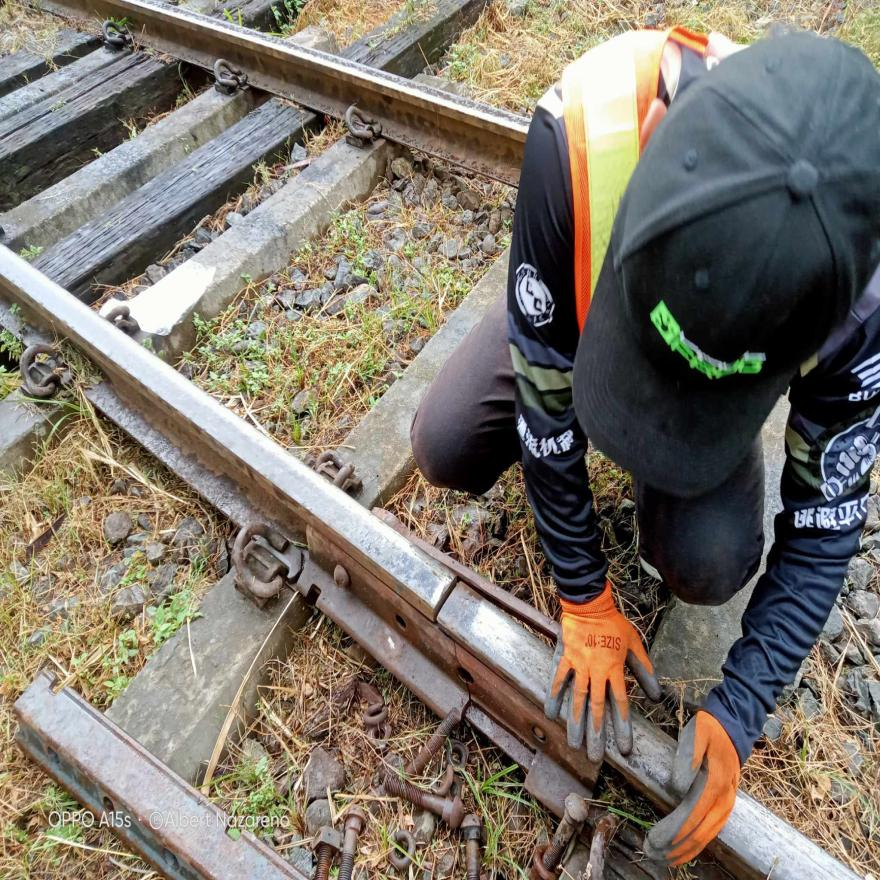railway-gap: (409, 550, 482, 654)
